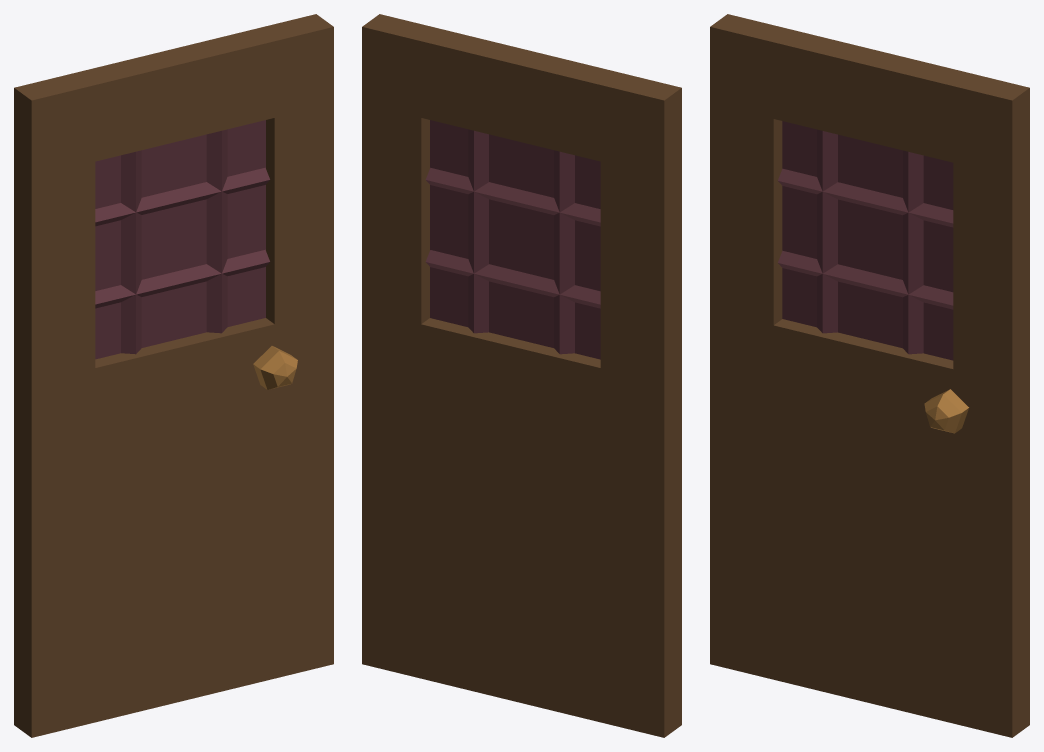
Rendered from buildings-door-wood-a.glb.
The picture shows the model from 3 angles, left to right: view 1: azimuth 30°, elevation 25°; view 2: azimuth 150°, elevation 25°; view 3: azimuth 330°, elevation 25°; orthographic projection.
Visible parts, largest first — view 1: door-wood-a; view 2: door-wood-a; view 3: door-wood-a.
Boxes of the visible parts, left/top/right/bottom form: door-wood-a: left=14, top=14, right=333, bottom=737; door-wood-a: left=362, top=14, right=681, bottom=737; door-wood-a: left=710, top=14, right=1029, bottom=737.
Size of the model in its own units: 0.9997 by 2.01 by 0.1879.
